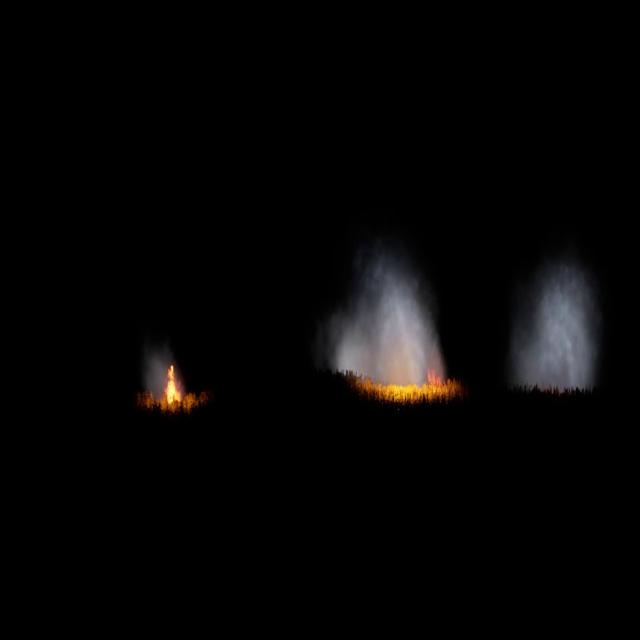fire: (346, 366, 460, 398), (164, 363, 186, 407)
smoke: (321, 251, 445, 385), (509, 259, 607, 393), (147, 350, 181, 401)
